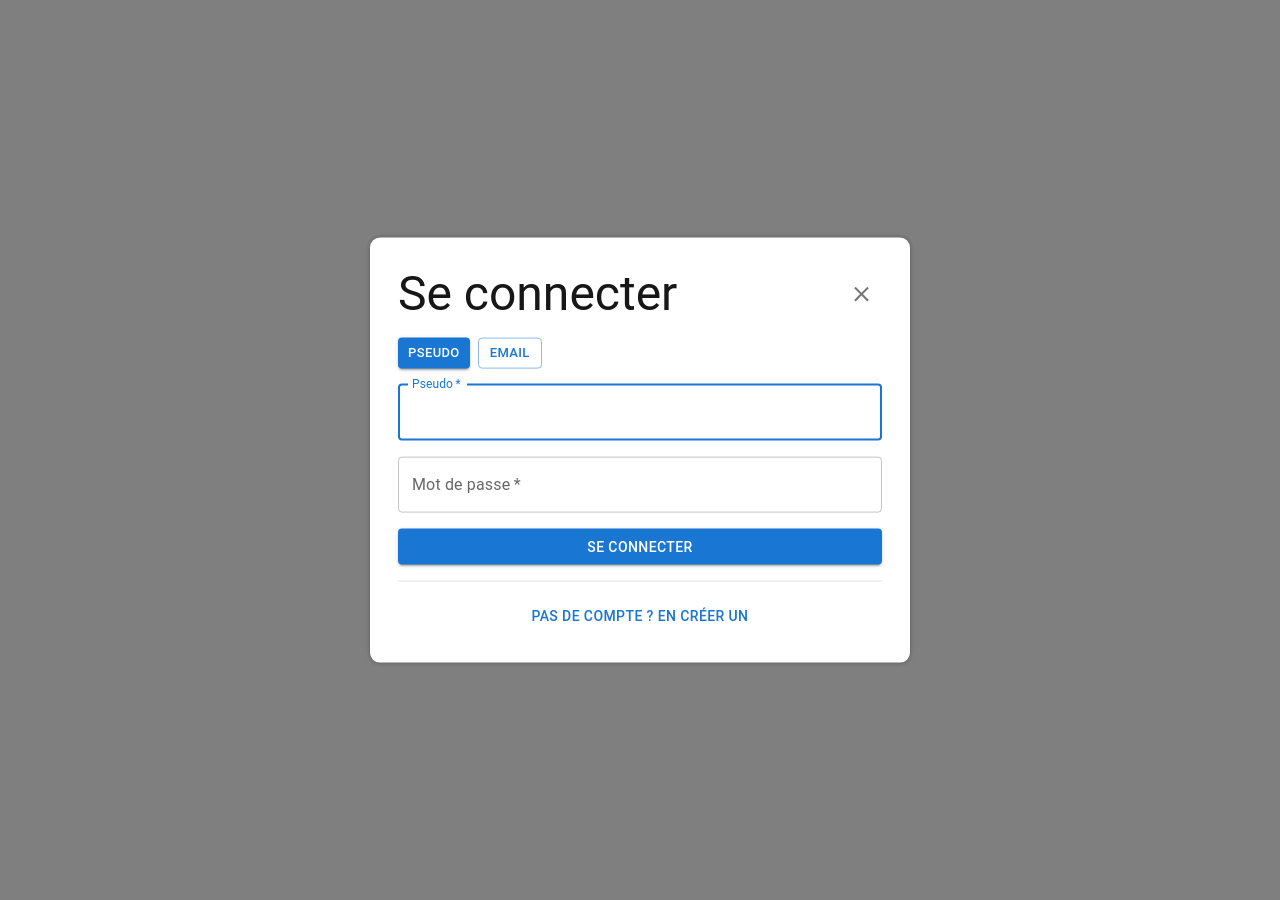
Test: AuthModal › connexion › affiche l'erreur et reste ouverte quand la connexion échoue
This screenshot has width=1280, height=900.
Type "abc" into the field labelled "Pseudo *" at (640, 412), box [398,384,882,440]
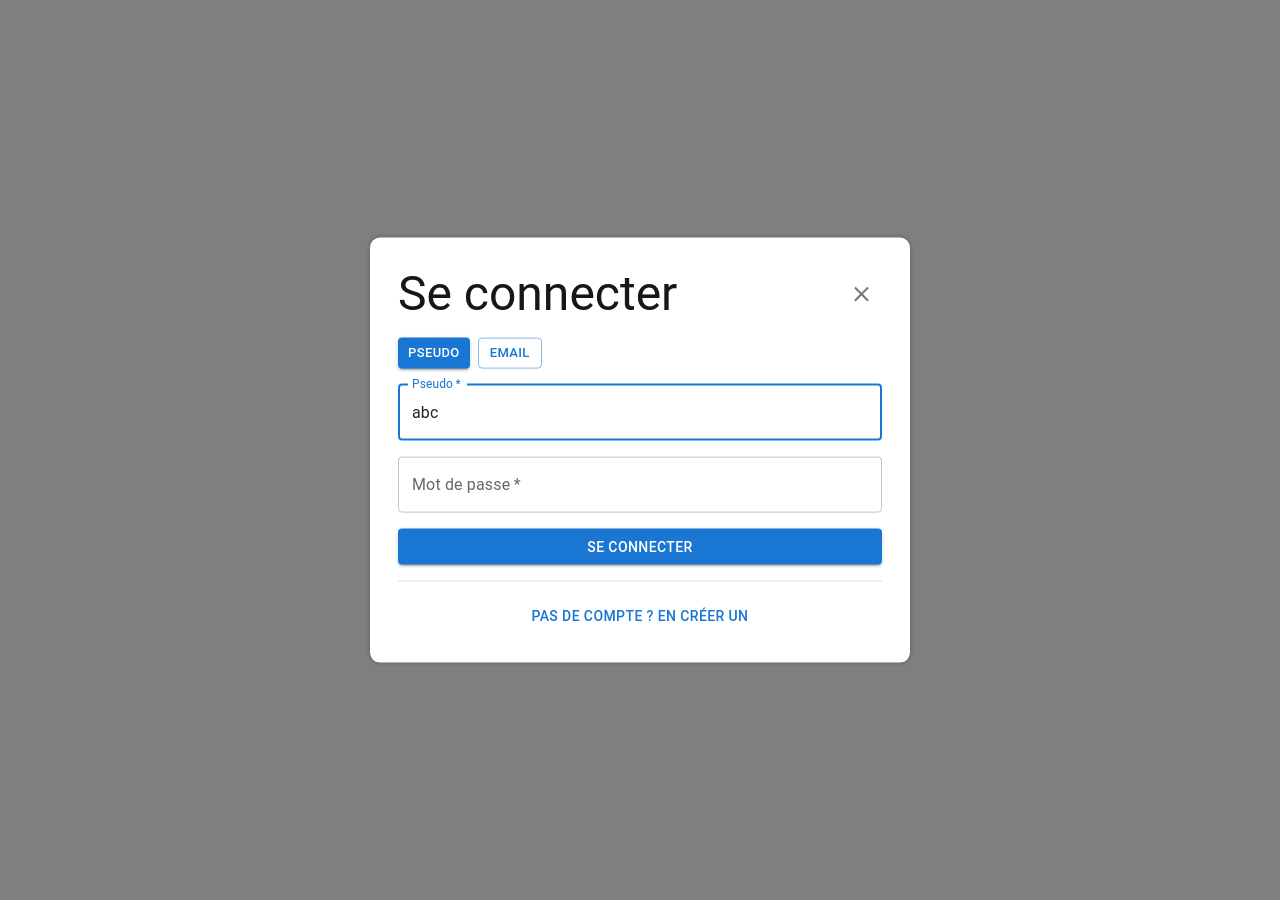
Type "secret" into the password field labelled "Mot de passe *" at (640, 484), box [398,456,882,512]
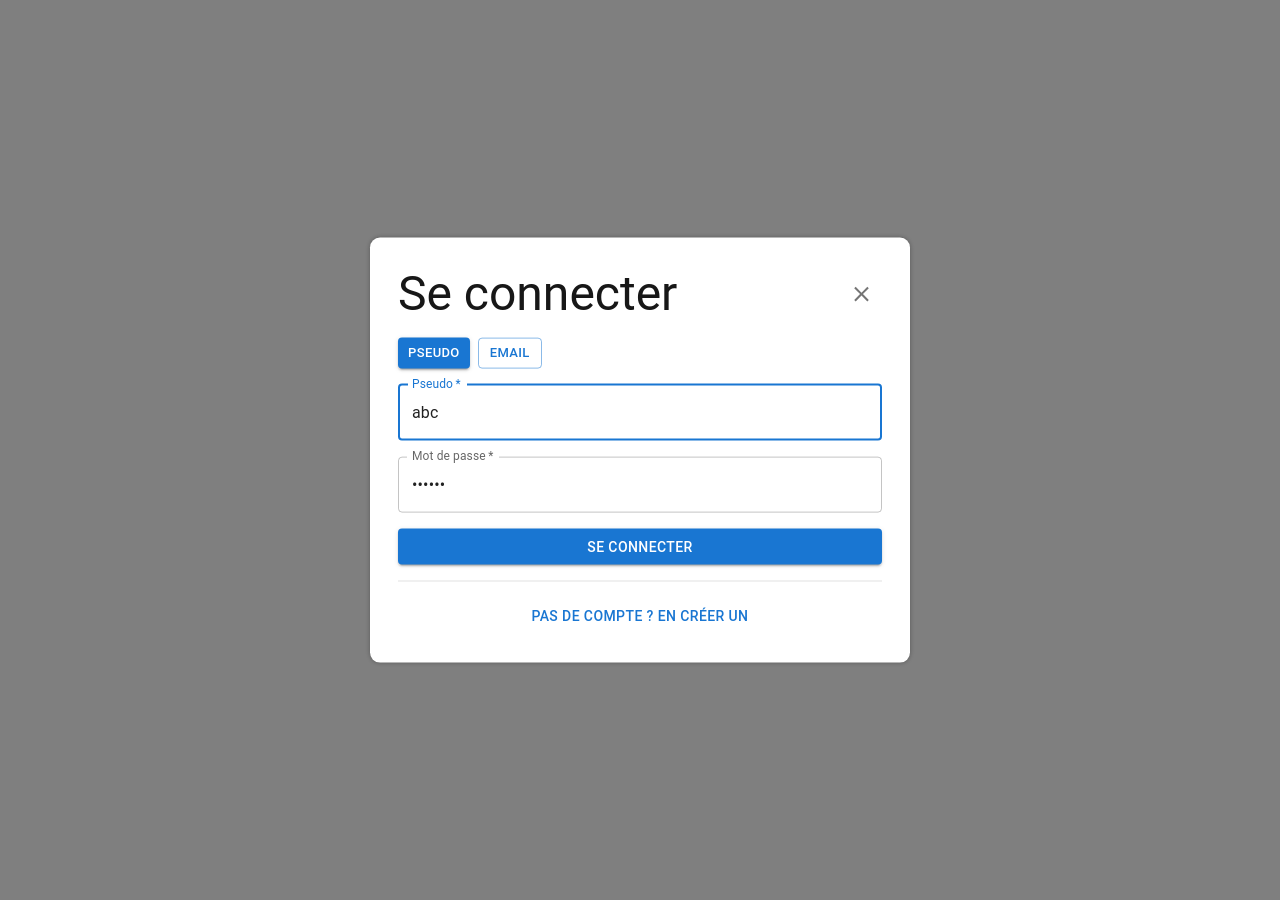
Click the button "Se connecter" at (640, 547), box [398,528,882,565]
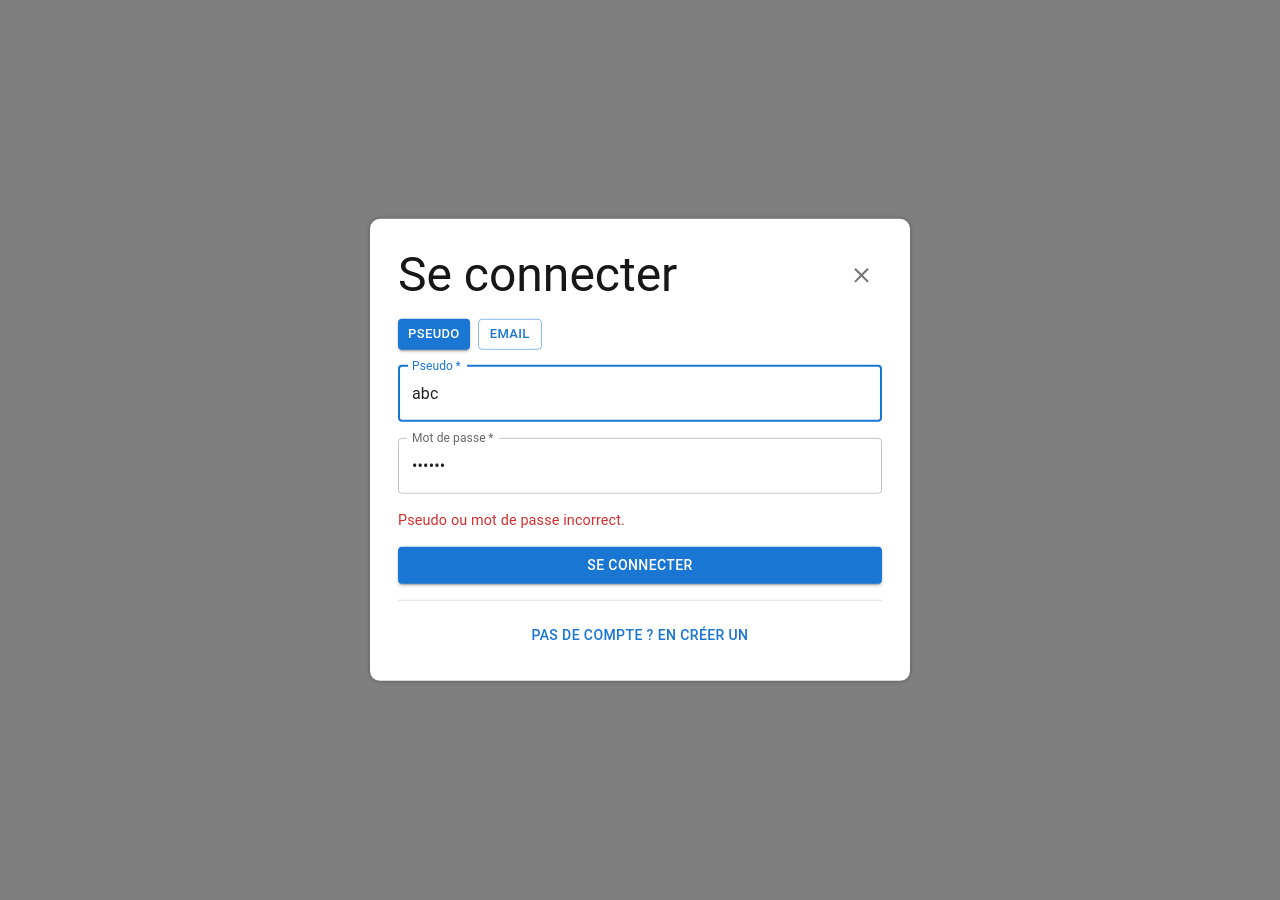
Now the text "Pseudo ou mot de passe incorrect." is shown, box [398,512,625,529]
